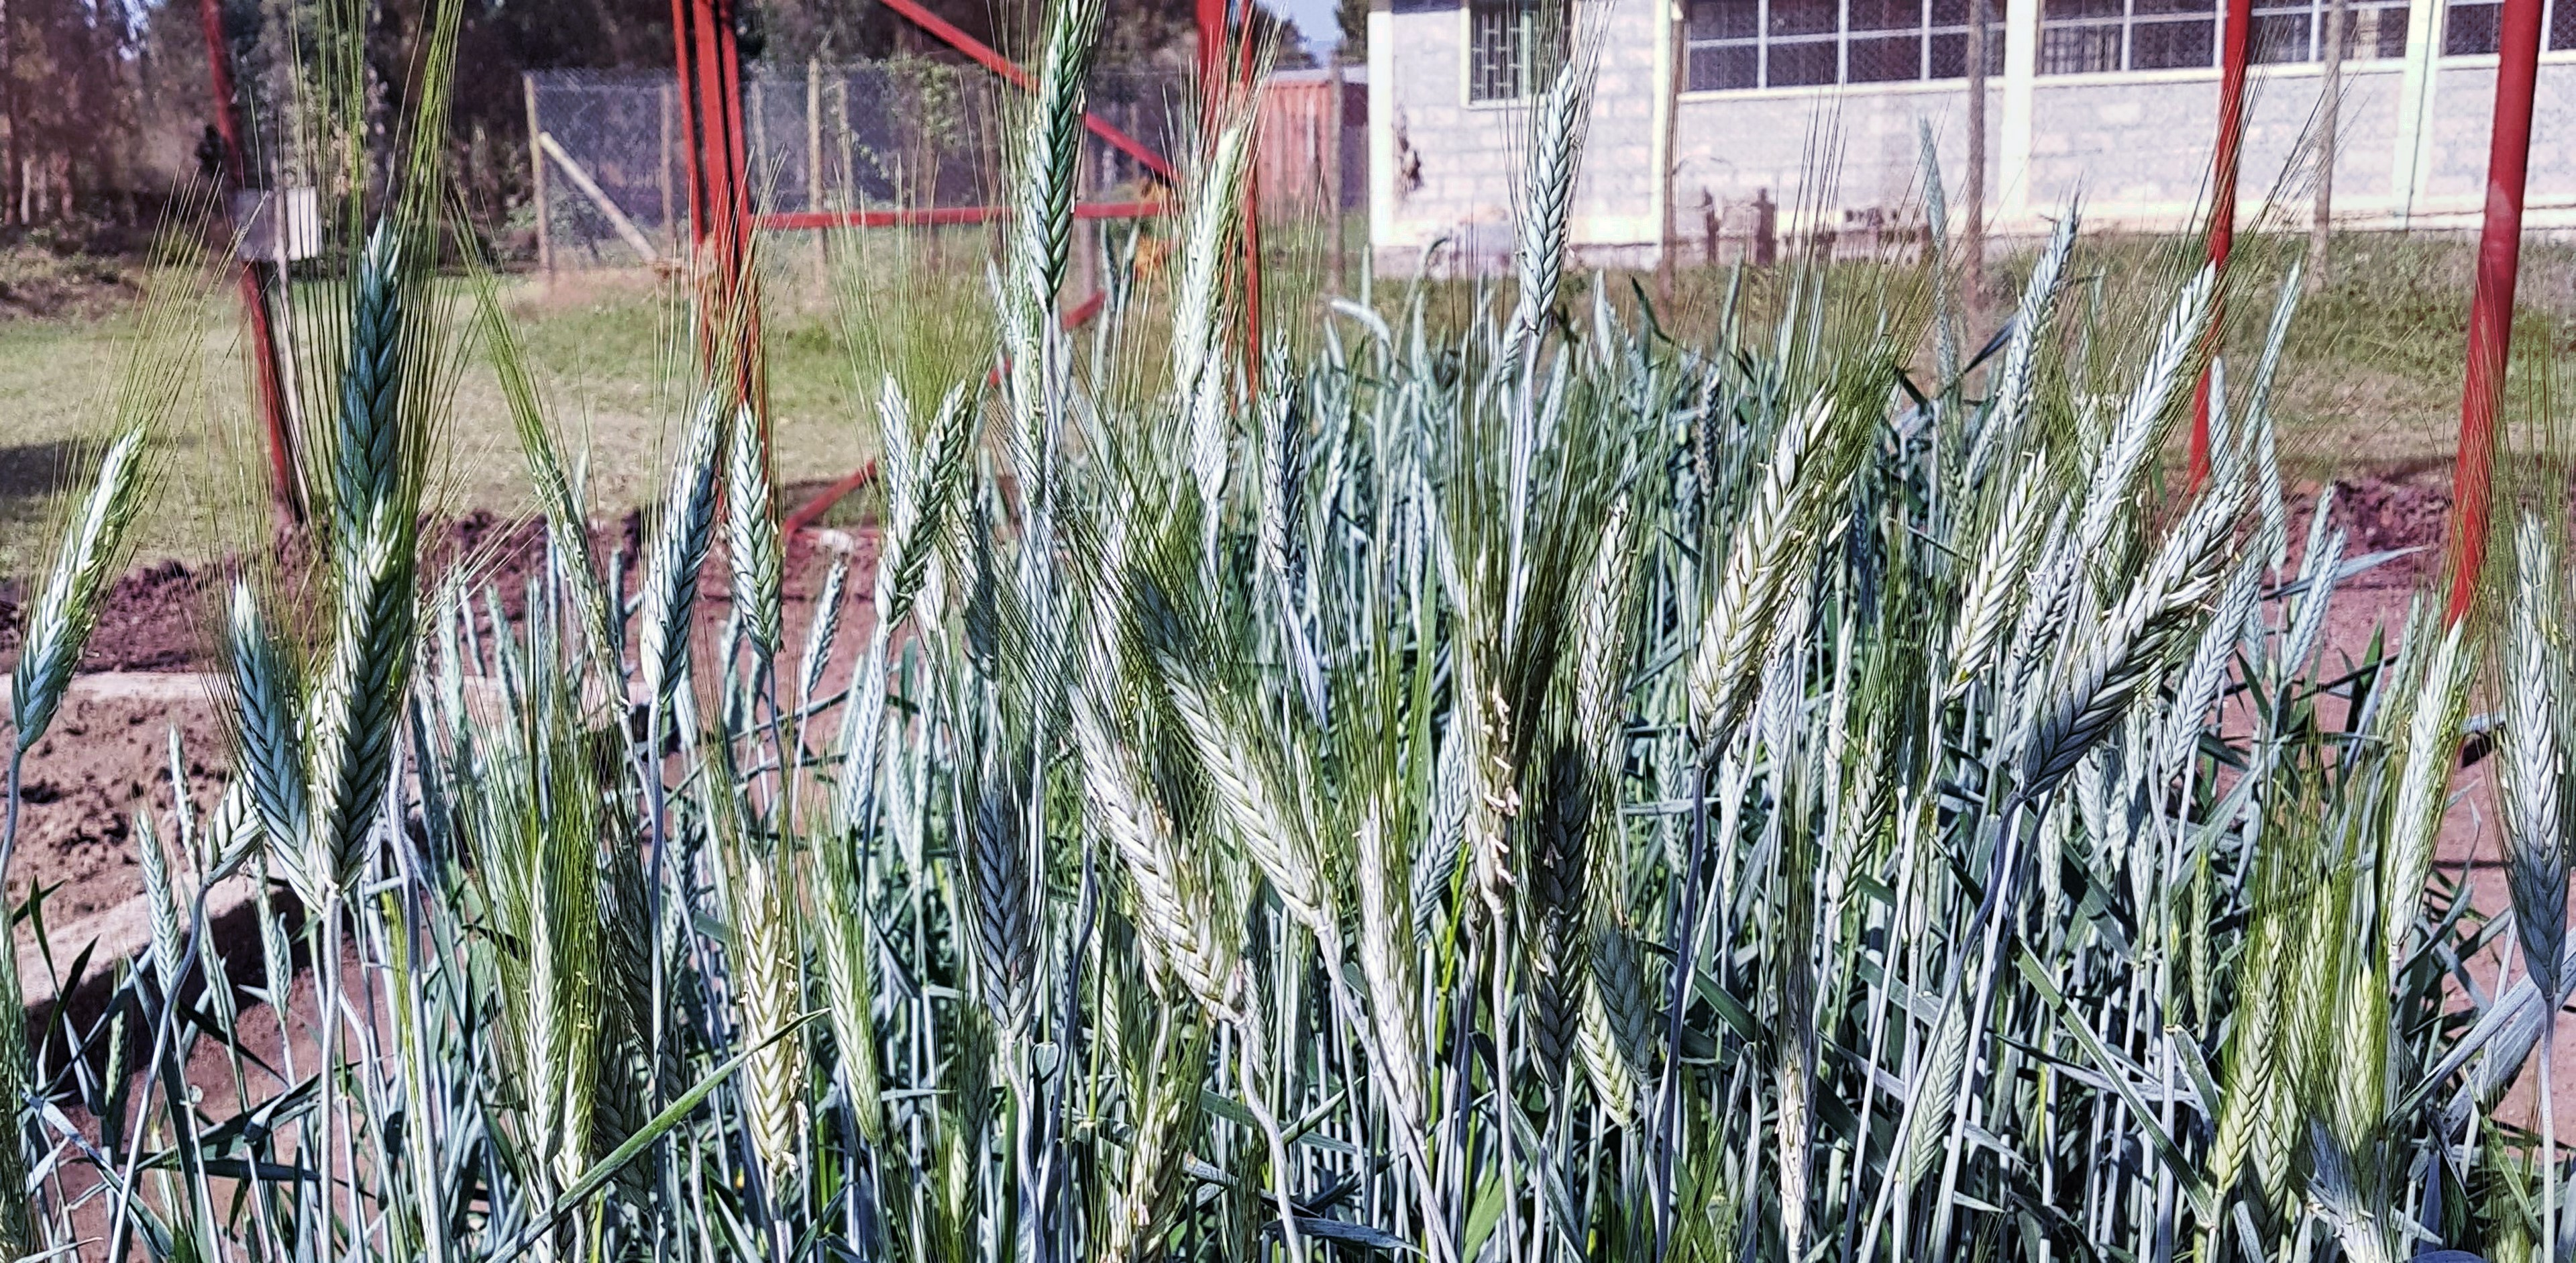Healthy Wheat: (15, 189, 424, 900), (964, 16, 1643, 344), (624, 339, 836, 709)
